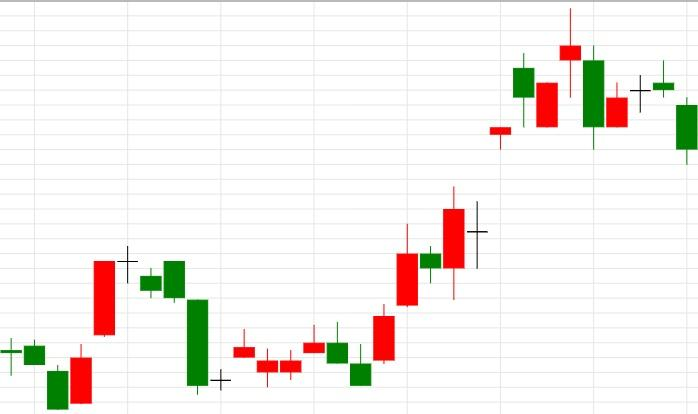bearish_engulfing_fall: (256, 321, 348, 387)
